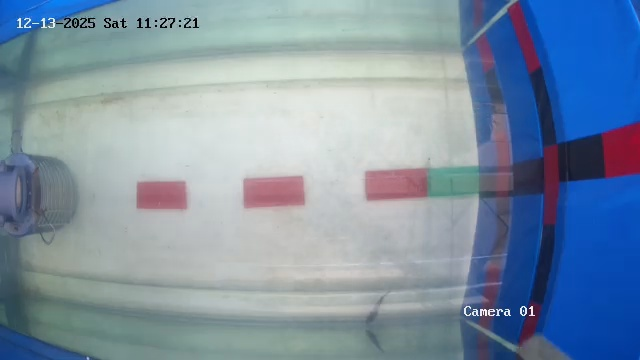fish: (335, 301, 365, 327)
